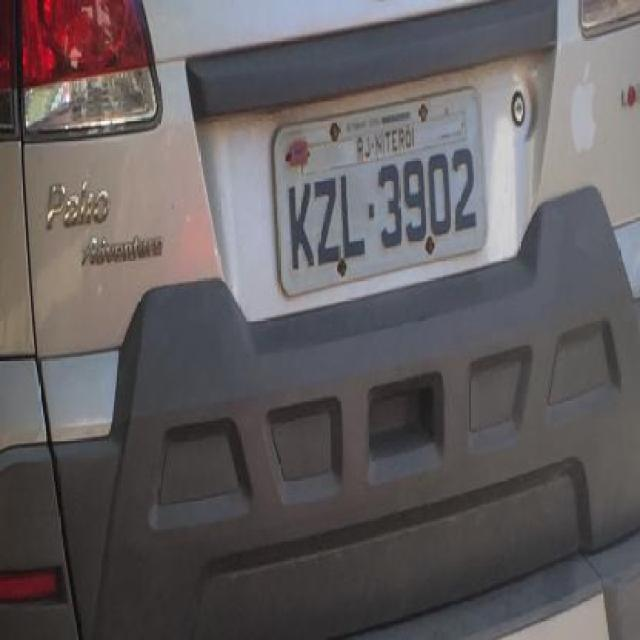old_plate: (263, 76, 493, 307)
